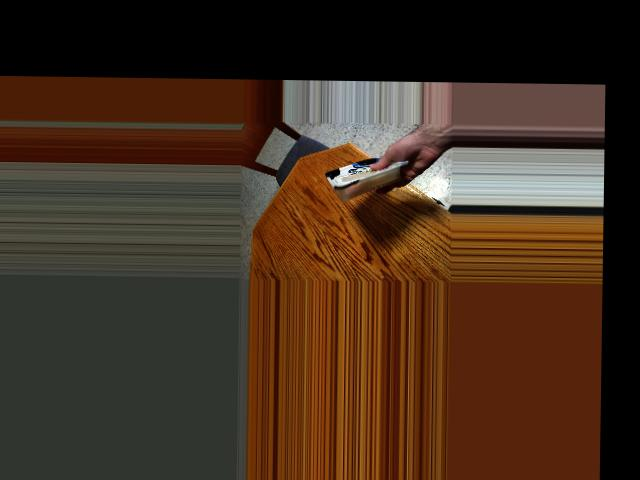cheese: (328, 143, 401, 205)
